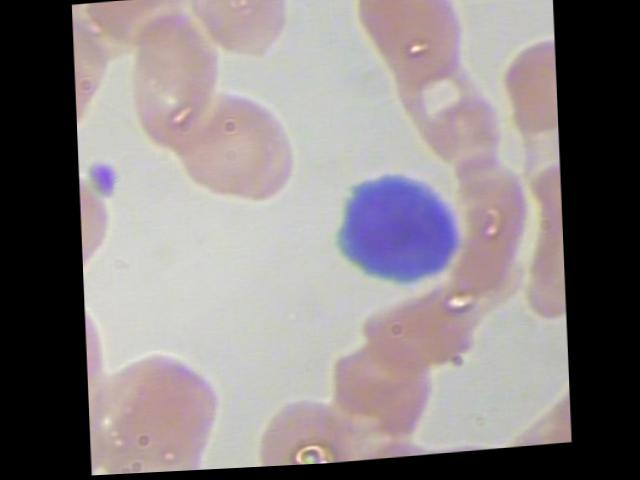Red Blood Cells: (89, 335, 230, 475), (169, 80, 301, 221), (129, 4, 229, 156), (377, 0, 477, 101), (253, 392, 357, 469), (190, 0, 296, 69), (354, 0, 456, 63), (379, 0, 480, 4)
White Blood Cells: (317, 161, 465, 308)
